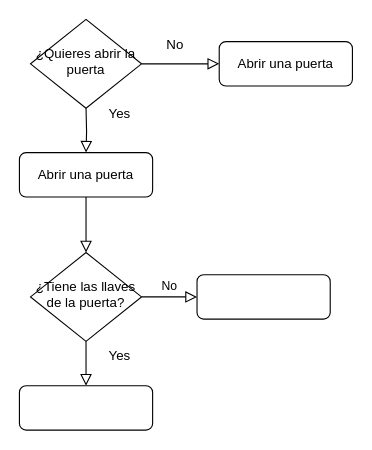
The diagram is 372 pixels wide and 450 high, and some of its shapes have lost their labels. Here are the shapes that lost their labels. From the top down, the centre of each, then its label:
At point 263,296: "No se puede abrir la puerta".
At point 85,407: "Se abre la puerta".
